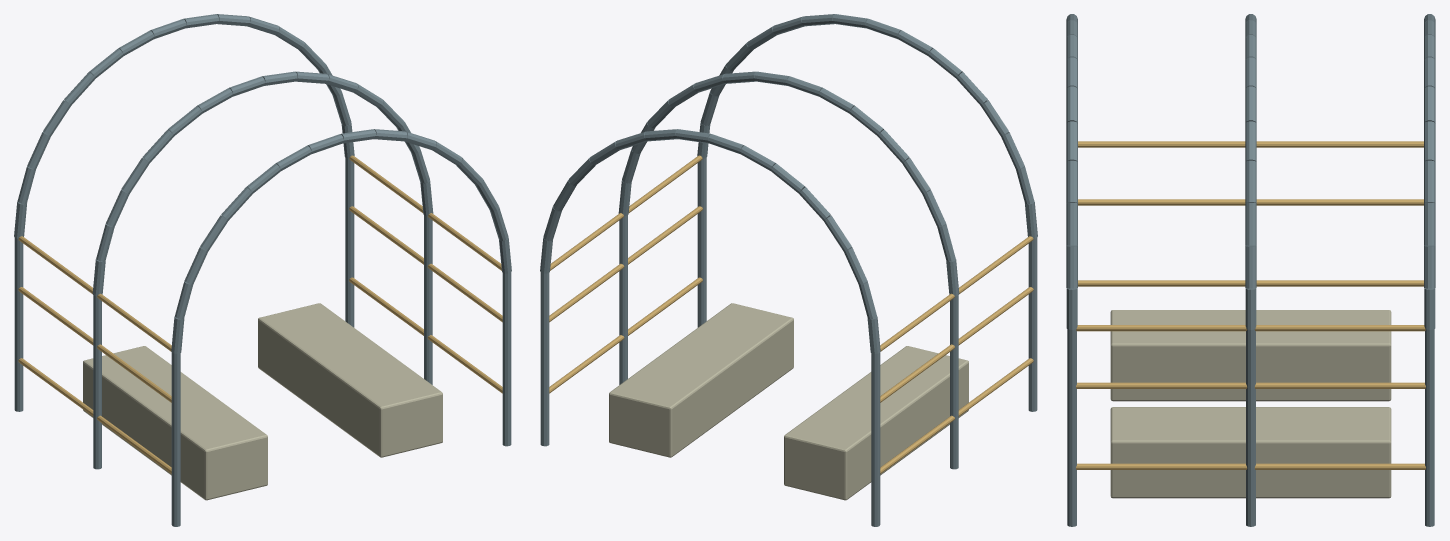
Rendered from a4_hero.glb.
3 renders of one model, left to right at view 1: azimuth 30°, elevation 25°; view 2: azimuth 150°, elevation 25°; view 3: azimuth 270°, elevation 25°, orthographic. The views are drawn at different scales.
Visible parts, largest first — view 1: Body.042; view 2: Body.042; view 3: Body.042.
Boxes of the visible parts, x1,y1,x2,y2 form: Body.042: (14, 14, 511, 526); Body.042: (540, 14, 1037, 526); Body.042: (1066, 14, 1435, 526).
Bounding box in the file's own units: 3.49 × 3.44 × 2.89.
